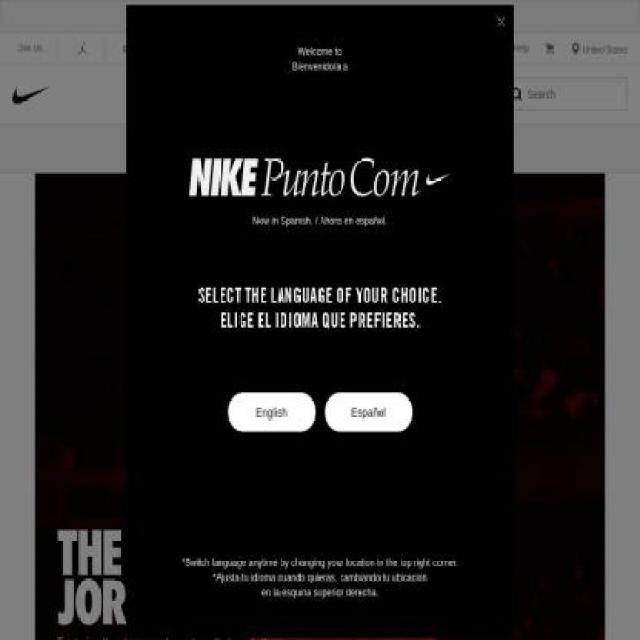button: (154, 64, 237, 124), (375, 64, 442, 124), (0, 64, 63, 124), (227, 393, 316, 432), (324, 393, 413, 432), (277, 64, 332, 124), (442, 64, 487, 124), (236, 64, 278, 124), (332, 64, 374, 124), (0, 31, 62, 66), (503, 31, 539, 66), (569, 41, 628, 56), (364, 11, 399, 20), (495, 13, 508, 30)
field: (502, 78, 627, 110)
